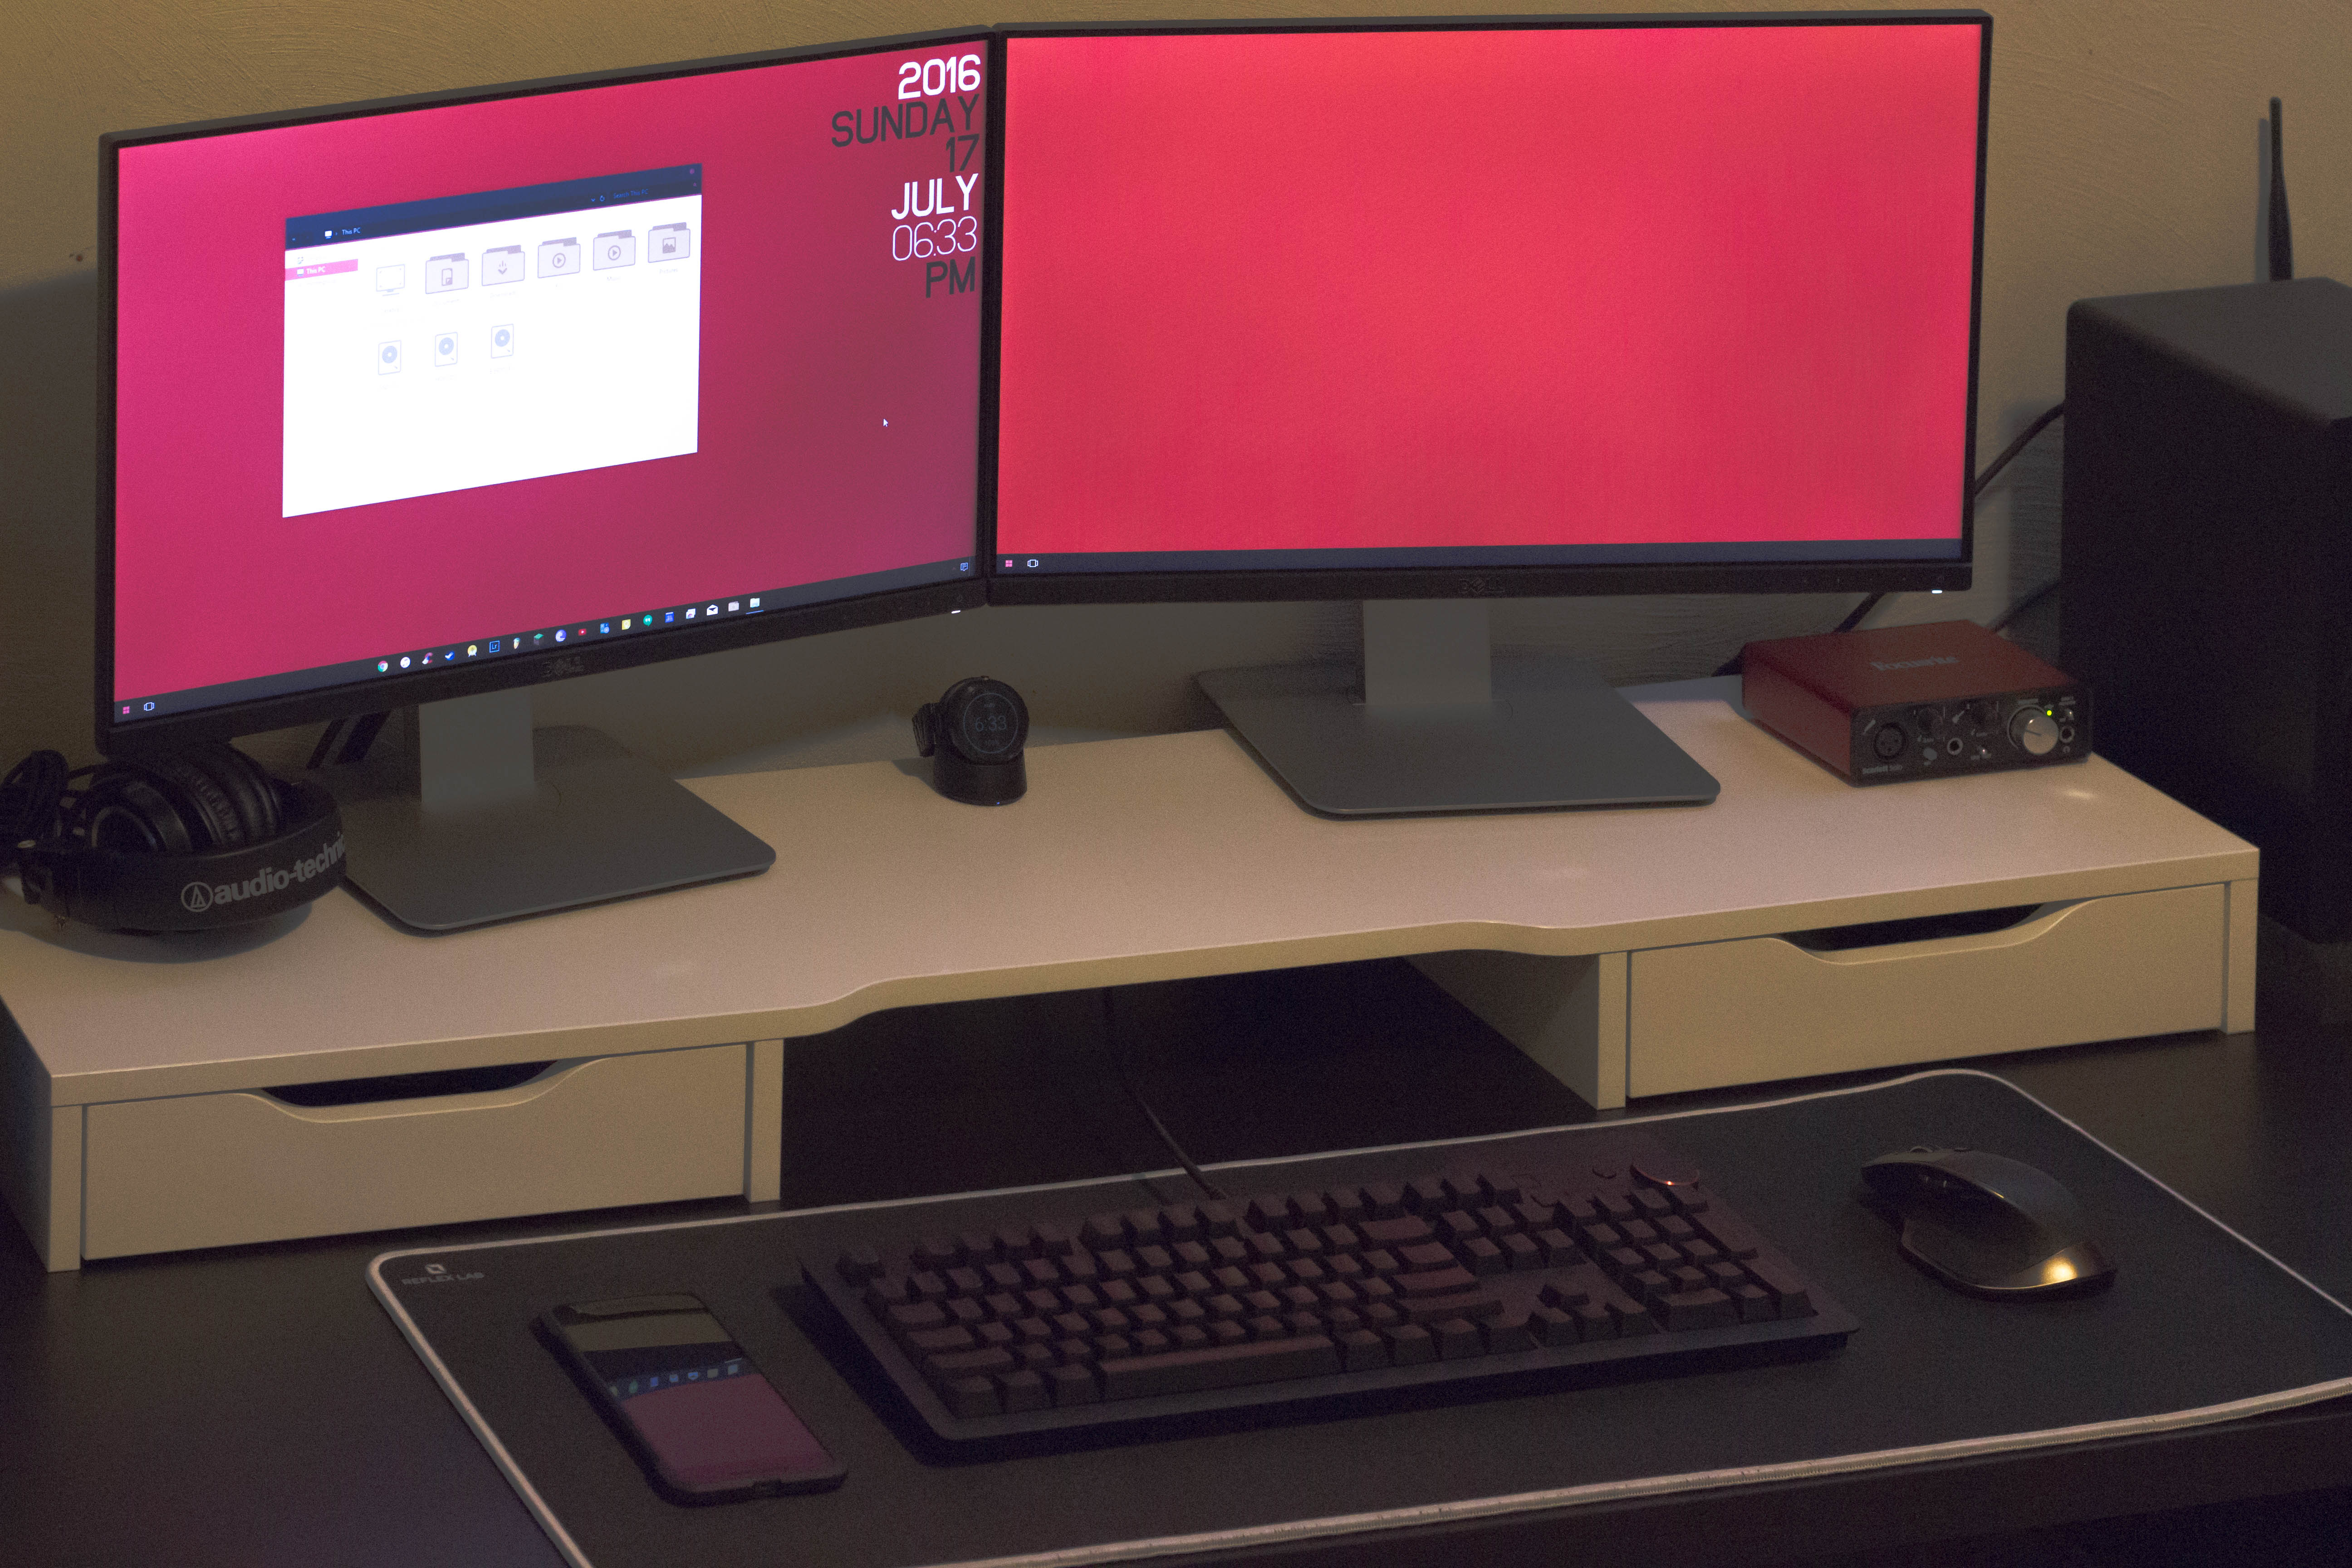Cellphone: (528, 1288, 840, 1501)
Desk (Generic): (0, 665, 2352, 1568)
Desktop (Generic): (2065, 276, 2352, 947)
Headphones: (0, 742, 350, 936)
Keyboard (Generic): (793, 1144, 1862, 1449)
Monitor (Landscape): (86, 23, 991, 938), (985, 9, 1992, 821)
Mouse (Ergonomic): (1848, 1138, 2114, 1305)
Mousepad (Gaming): (350, 1059, 2352, 1564)
